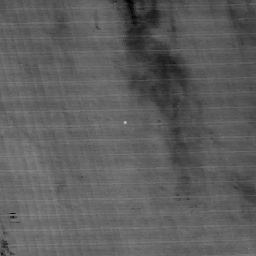Target: (122, 119, 129, 126)
